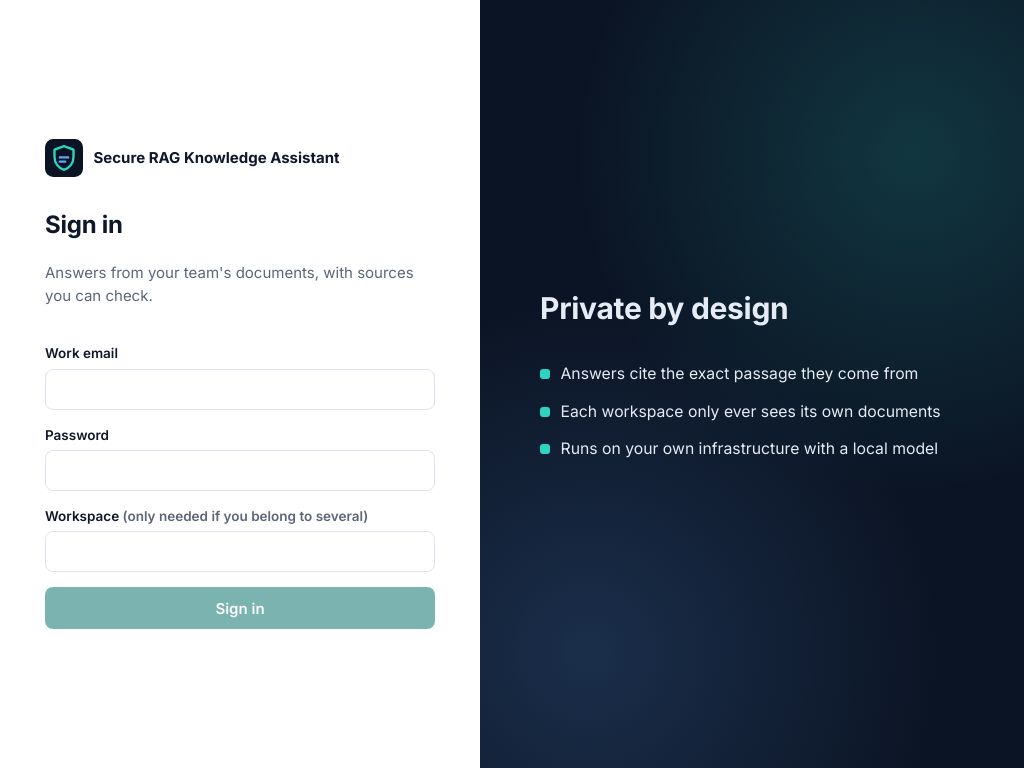
it: login › shows the server's error message for wrong credentials
This screenshot has width=1024, height=768.
Type "admin@northwind.example" into the field labelled "Work email" at (240, 389), box [45, 369, 435, 410]
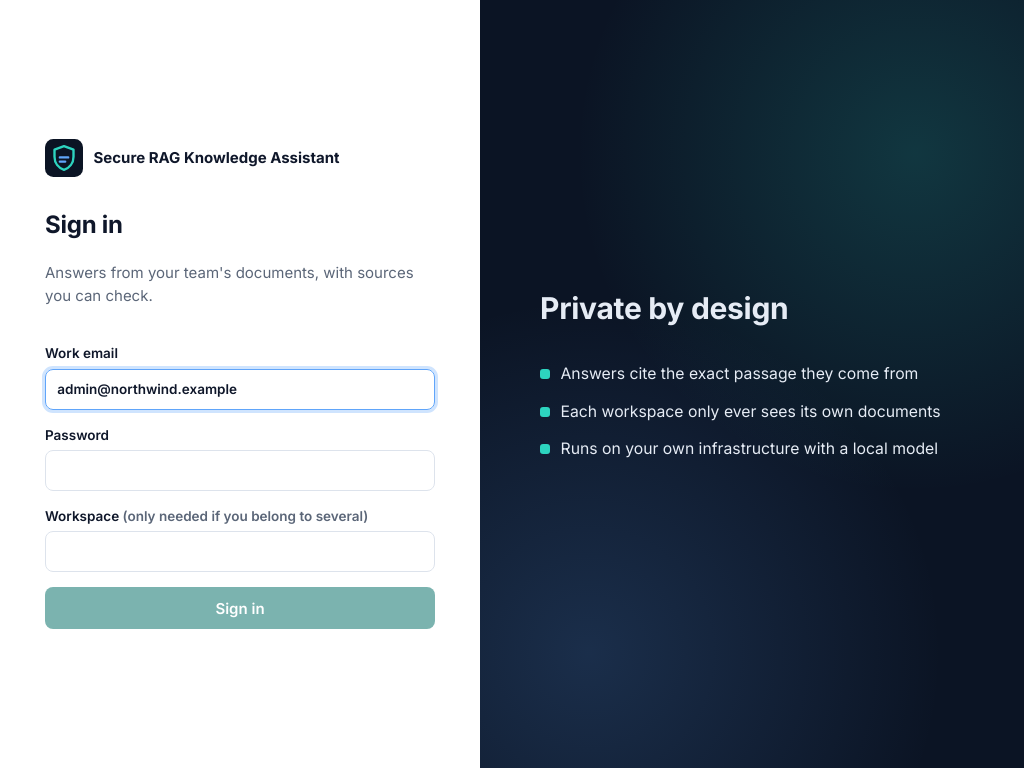
Type "wrong-password" into the password field labelled "Password" at (240, 471), box [45, 450, 435, 491]
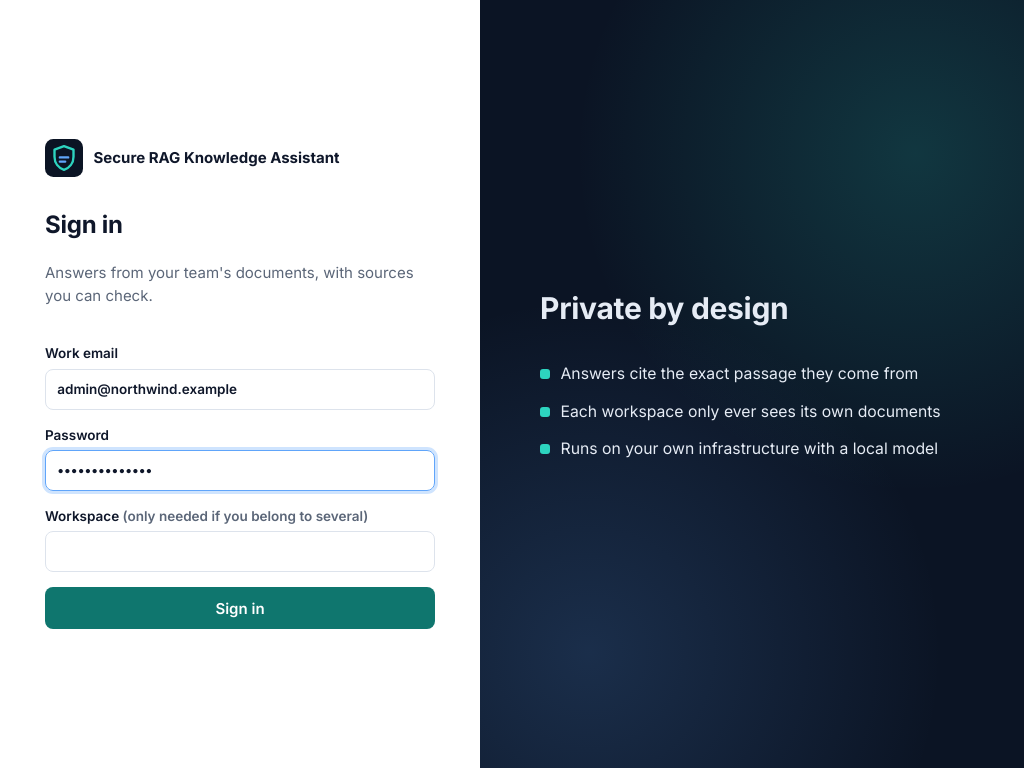
Click the button "Sign in" at (240, 608), box [45, 587, 435, 629]
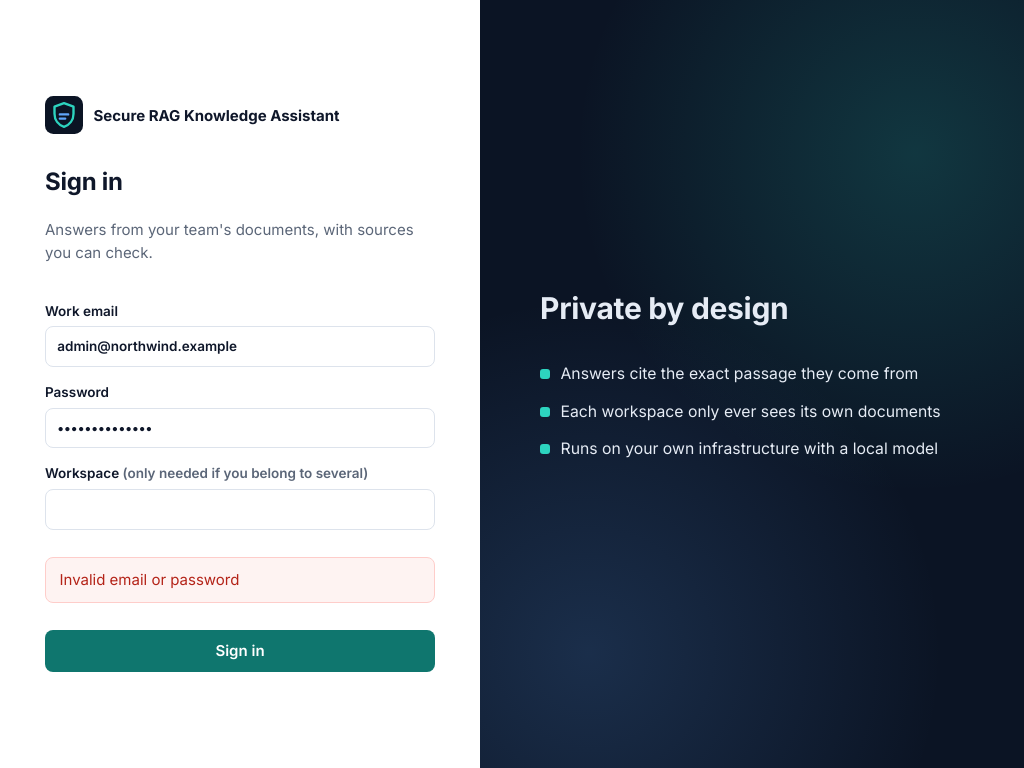
Expected: the message reads "Invalid email or password", [60, 570, 240, 589]
